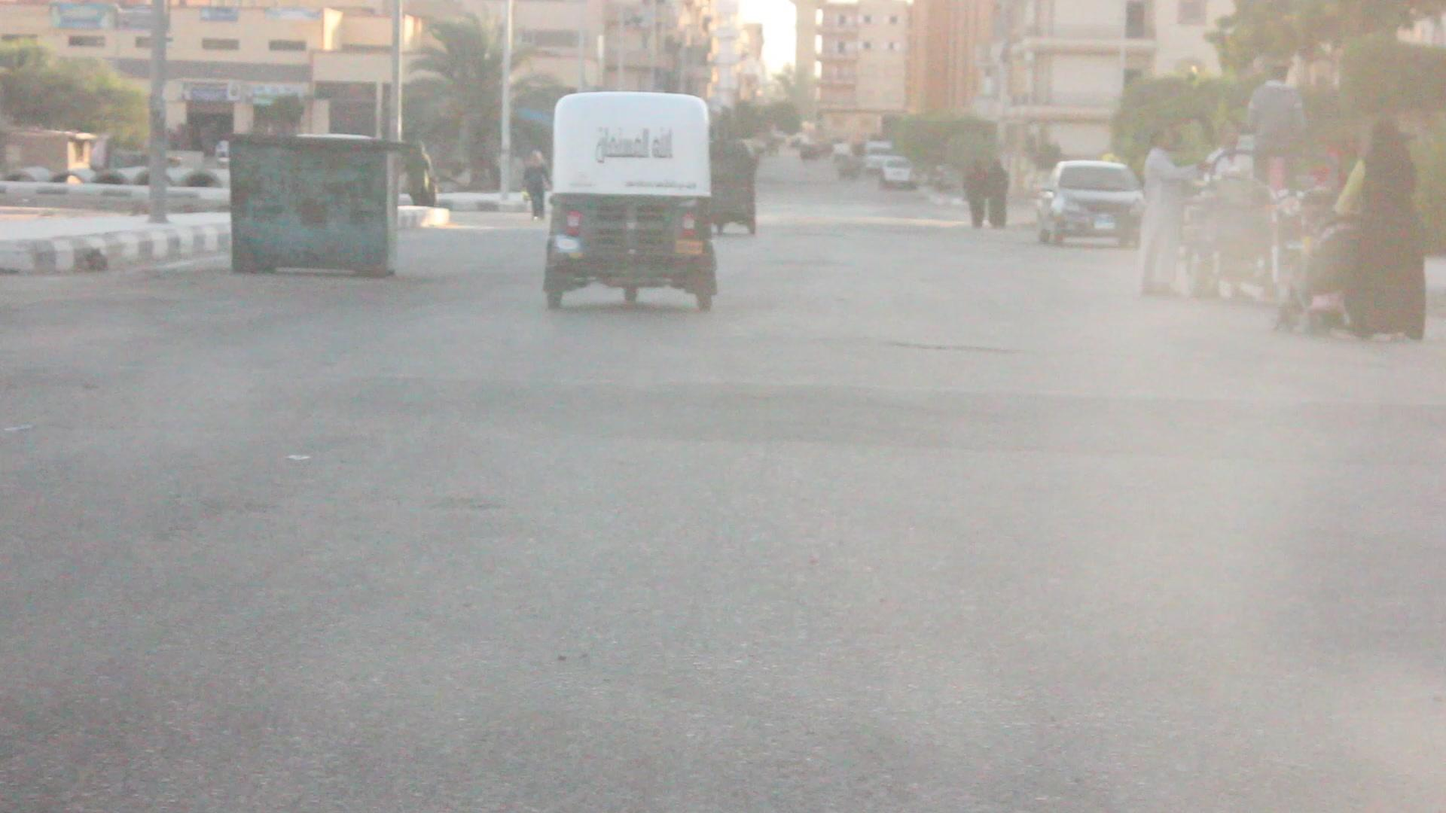Bump: (345, 378, 1446, 438)
